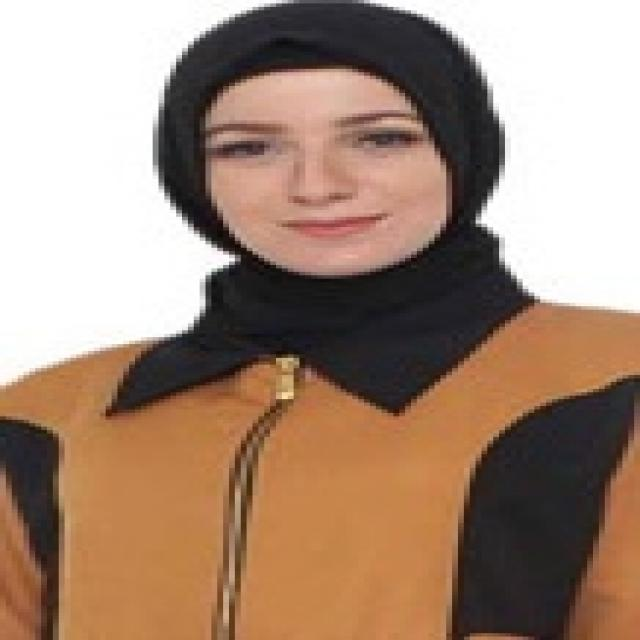head: (154, 1, 506, 289)
